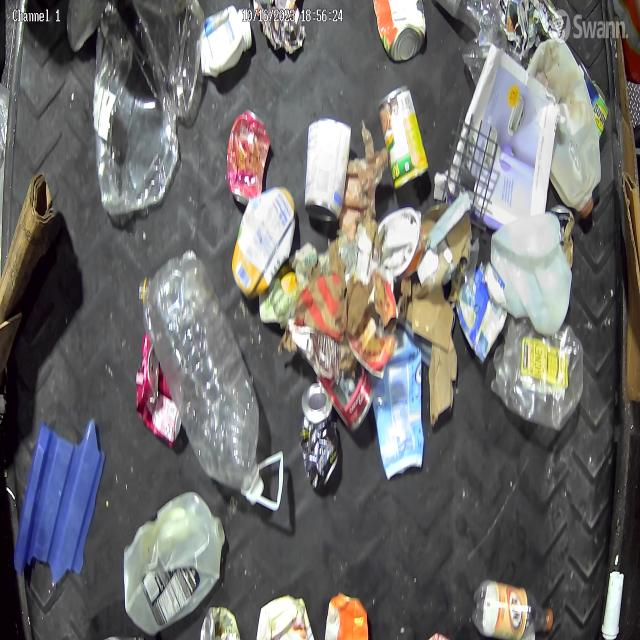can: (378, 84, 430, 190), (456, 262, 507, 364), (136, 334, 182, 444), (305, 119, 352, 221), (317, 359, 373, 435), (300, 382, 339, 490), (227, 109, 269, 207), (372, 0, 427, 63)
milk_jug: (124, 491, 225, 638), (526, 39, 602, 220), (491, 210, 573, 336)
non_white_jug: (372, 332, 425, 480), (232, 188, 296, 302)
plastic_bottle: (146, 250, 285, 510), (471, 579, 553, 640)
